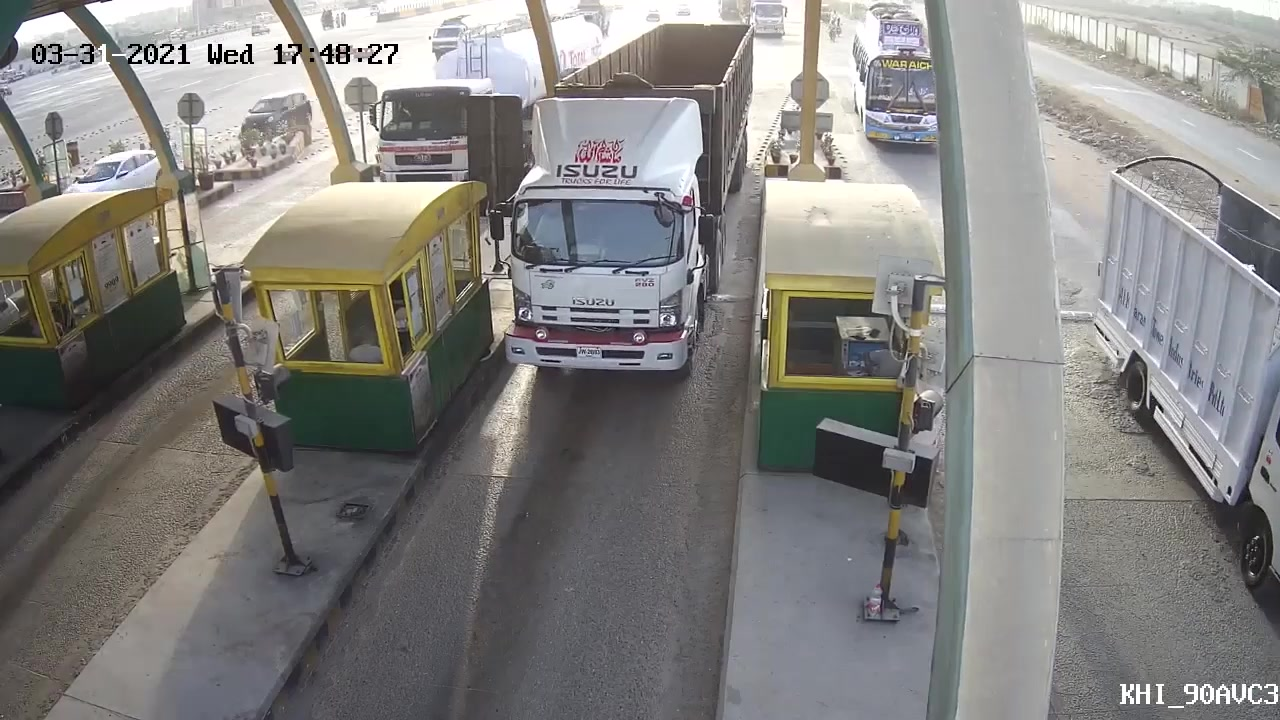F6: (491, 18, 757, 404)
